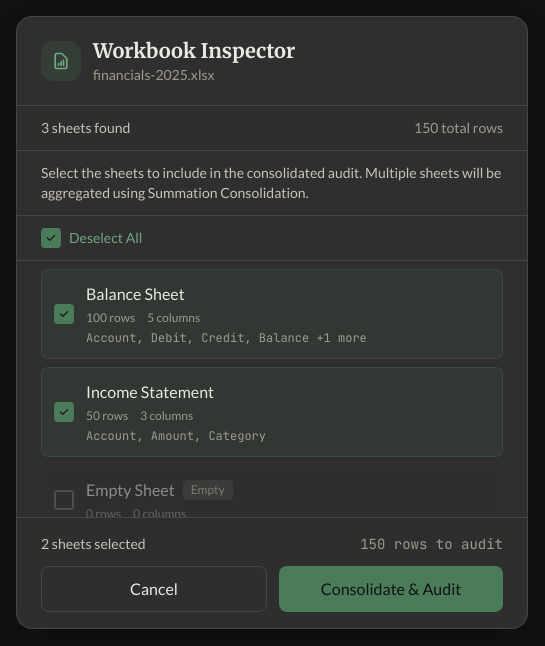
Scenario: WorkbookInspector › selects all when "Select All" is clicked after deselecting
Click the button "Deselect All".
click(92, 238)  # box [41,228,142,248]
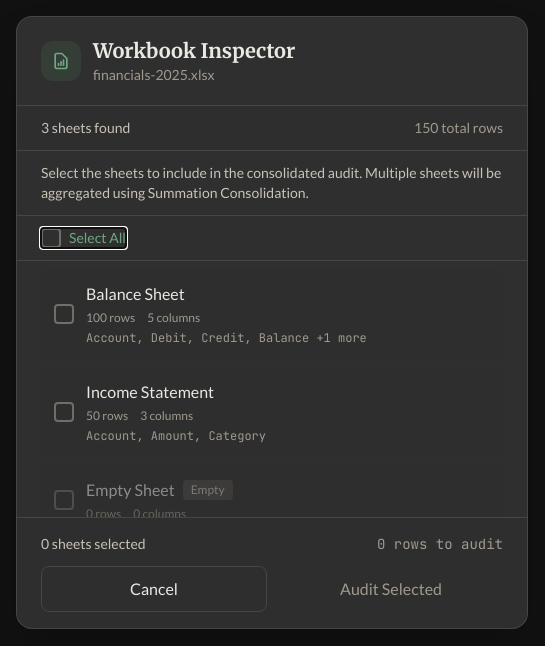
Click the button "Select All".
click(83, 238)  # box [41,228,126,248]
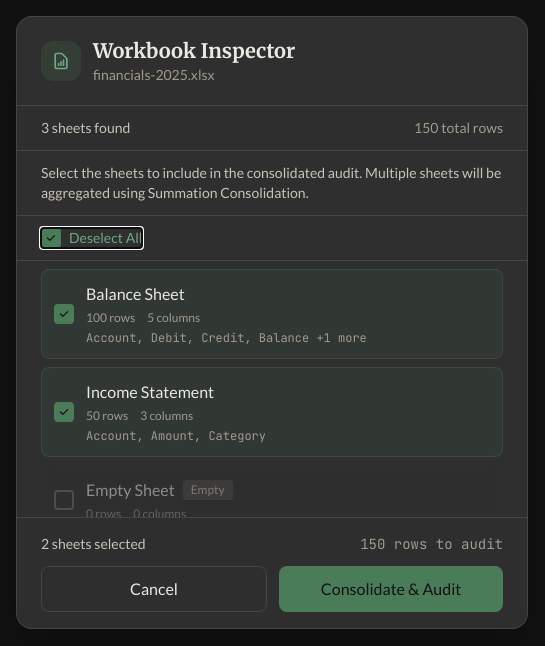
Result: the text "2 sheets selected" is shown at [41,534,146,554]
